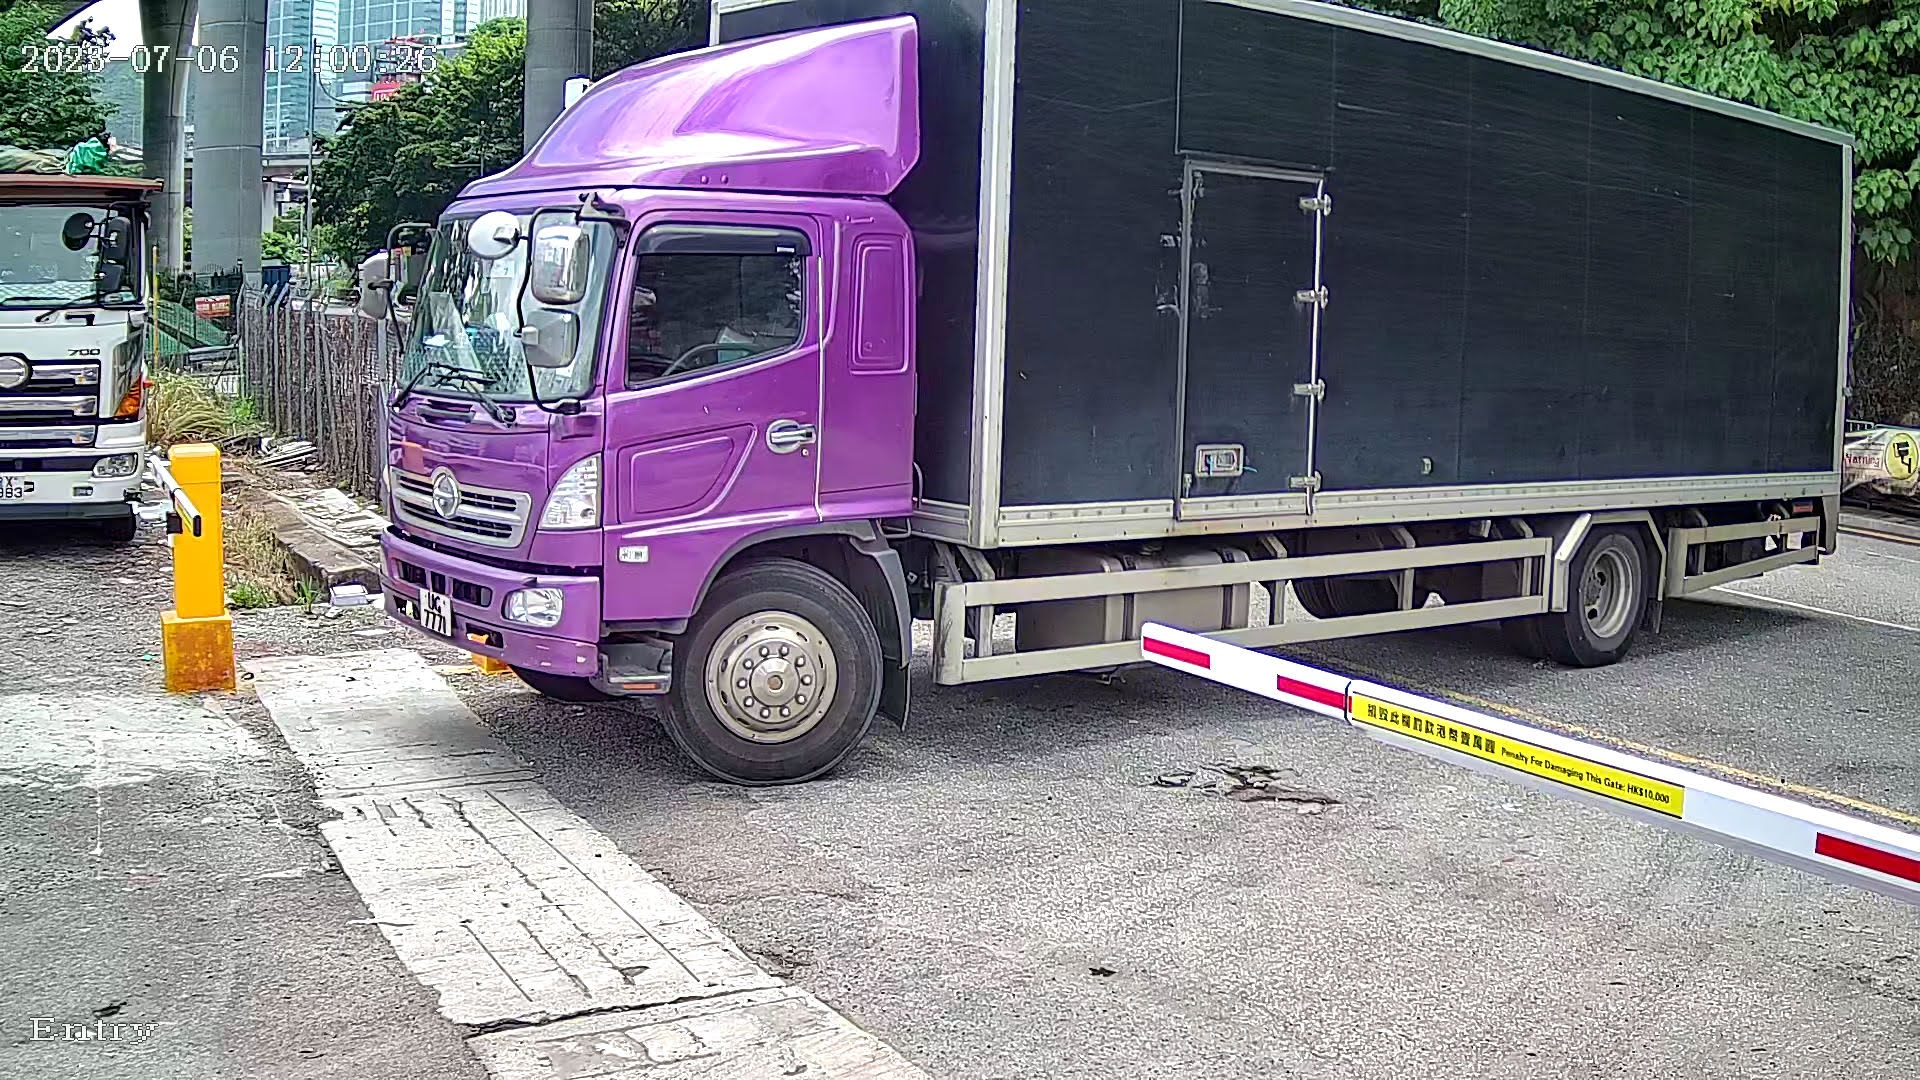truck: (315, 1, 1882, 839)
